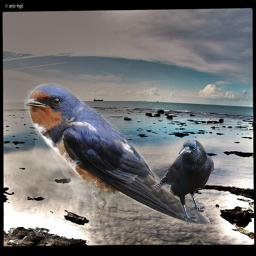Crow: (148, 136, 214, 226)
Swallow: (23, 83, 210, 225)
